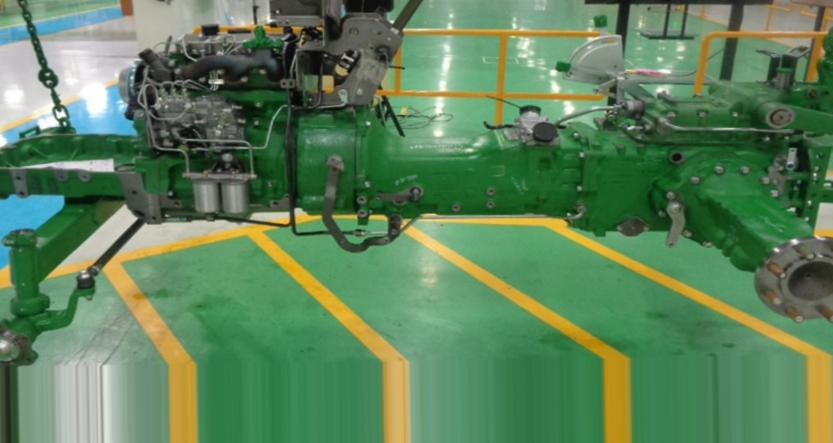engine: (0, 0, 833, 362)
